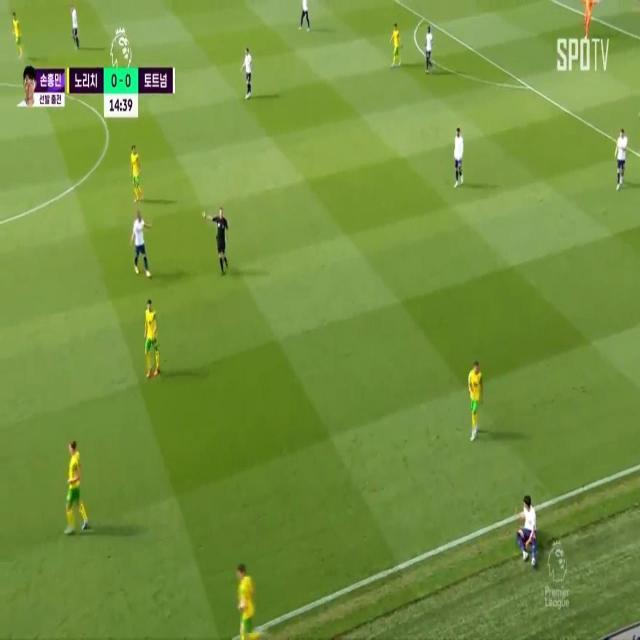goalkeeper: (578, 0, 602, 57)
player: (510, 492, 538, 567), (127, 207, 149, 281), (610, 126, 632, 196), (142, 299, 161, 377), (65, 438, 80, 530), (235, 563, 253, 638), (3, 2, 25, 58), (63, 4, 84, 59), (467, 356, 483, 428), (126, 142, 145, 199), (239, 47, 259, 100), (419, 22, 436, 77), (451, 121, 464, 191), (390, 16, 402, 59), (300, 0, 314, 33)
referee: (215, 198, 234, 280)
